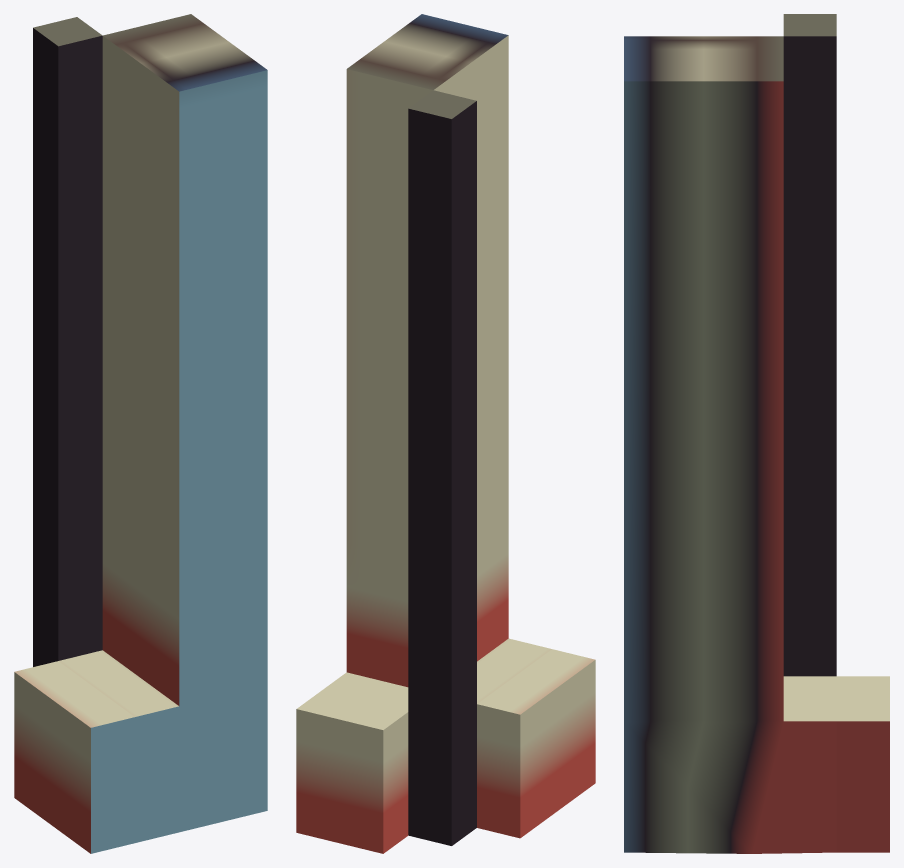
Rendered from casa3_cantonada_mig.fbx.
The picture shows the model from 3 angles, left to right: view 1: azimuth 30°, elevation 25°; view 2: azimuth 150°, elevation 25°; view 3: azimuth 270°, elevation 25°; orthographic projection. The views are drawn at different scales.
Parts seen in each view (by area): view 1: Wall1.037; view 2: Wall1.037; view 3: Wall1.037.
Part boxes in pixels (x1,y1,x2,y2): Wall1.037: (14,14,267,853); Wall1.037: (296,14,595,853); Wall1.037: (624,14,889,853).
Size of the model in its own units: 102 by 400 by 125.
